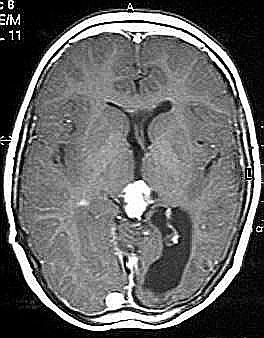Tumor: (119, 177, 157, 220)
